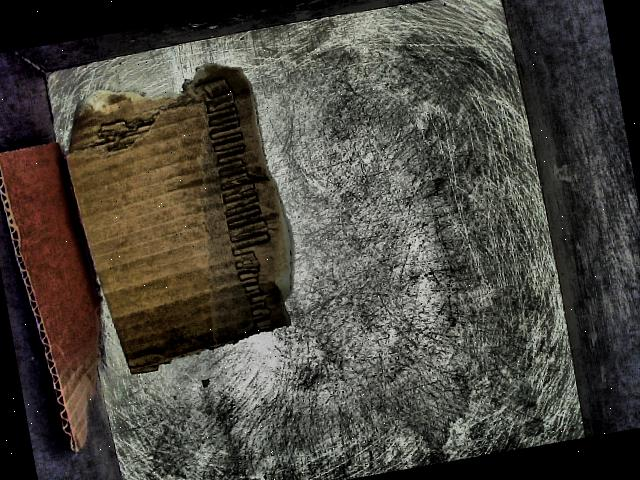Paper: (54, 52, 328, 412), (0, 131, 126, 453)
